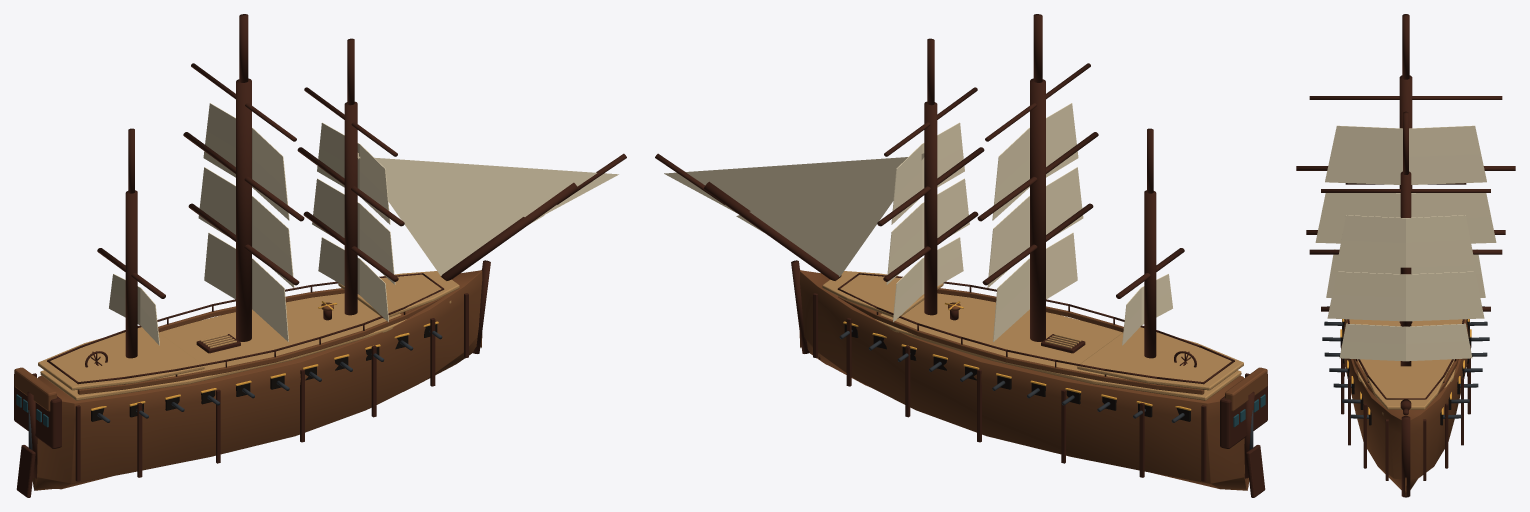
File: AgeOfSailWarship_Frigate.fbx
3 renders of one model, left to right at view 1: azimuth 30°, elevation 25°; view 2: azimuth 150°, elevation 25°; view 3: azimuth 270°, elevation 25°, orthographic. The views are drawn at different scales.
Visible parts, largest first — view 1: Frigate_Hull_Main_Lofted, Frigate_Deck_Upper_Main, Frigate_Jib_Inner, Frigate_Jib_Outer, Frigate_Deck_Quarterdeck, Frigate_Main_Mast, Frigate_Main_SquareSail_1, Frigate_Main_SquareSail_0, Frigate_Main_SquareSail_2, Frigate_Fore_SquareSail_1, Frigate_Fore_Mast, Frigate_Fore_SquareSail_0 (+14 smaller); view 2: Frigate_Hull_Main_Lofted, Frigate_Deck_Upper_Main, Frigate_Jib_Inner, Frigate_Deck_Quarterdeck, Frigate_Jib_Outer, Frigate_Main_Mast, Frigate_Main_SquareSail_1, Frigate_Main_SquareSail_0, Frigate_Main_SquareSail_2, Frigate_Fore_SquareSail_1, Frigate_Fore_Mast, Frigate_Fore_SquareSail_0 (+14 smaller); view 3: Frigate_Main_SquareSail_0, Frigate_Fore_SquareSail_1, Frigate_Fore_SquareSail_0, Frigate_Hull_Main_Lofted, Frigate_Main_SquareSail_1, Frigate_Fore_SquareSail_2, Frigate_Deck_Forecastle, Frigate_Main_SquareSail_2, Frigate_Deck_Upper_Main, Frigate_Stem_Post, Frigate_Fore_Mast, Frigate_Main_Yard_0 (+8 smaller).
Part boxes in pixels (box(x1,y1,x2,y2)): Frigate_Hull_Main_Lofted: box(32, 270, 482, 490); Frigate_Deck_Upper_Main: box(40, 293, 451, 400); Frigate_Jib_Inner: box(357, 153, 544, 275); Frigate_Jib_Outer: box(357, 156, 618, 219); Frigate_Deck_Quarterdeck: box(38, 327, 204, 390); Frigate_Main_Mast: box(236, 78, 251, 341); Frigate_Main_SquareSail_1: box(198, 167, 294, 287); Frigate_Main_SquareSail_0: box(203, 103, 289, 220); Frigate_Main_SquareSail_2: box(204, 232, 288, 341); Frigate_Fore_SquareSail_1: box(312, 178, 395, 284); Frigate_Fore_Mast: box(344, 101, 357, 315); Frigate_Fore_SquareSail_0: box(317, 122, 390, 224); Frigate_Hull_Main_Lofted: box(799, 270, 1249, 490); Frigate_Deck_Upper_Main: box(875, 293, 1241, 400); Frigate_Jib_Inner: box(736, 153, 924, 276); Frigate_Deck_Quarterdeck: box(1077, 327, 1243, 390); Frigate_Jib_Outer: box(664, 157, 907, 212); Frigate_Main_Mast: box(1030, 78, 1045, 341); Frigate_Main_SquareSail_1: box(987, 167, 1083, 287); Frigate_Main_SquareSail_0: box(992, 103, 1078, 220); Frigate_Main_SquareSail_2: box(993, 232, 1077, 341); Frigate_Fore_SquareSail_1: box(886, 178, 969, 284); Frigate_Fore_Mast: box(924, 101, 937, 315); Frigate_Fore_SquareSail_0: box(891, 122, 964, 224); Frigate_Main_SquareSail_0: box(1325, 125, 1486, 184); Frigate_Fore_SquareSail_1: box(1327, 271, 1484, 321); Frigate_Fore_SquareSail_0: box(1337, 215, 1474, 267); Frigate_Hull_Main_Lofted: box(1343, 319, 1468, 495); Frigate_Main_SquareSail_1: box(1315, 193, 1496, 243); Frigate_Fore_SquareSail_2: box(1339, 323, 1472, 361); Frigate_Deck_Forecastle: box(1362, 366, 1449, 409); Frigate_Main_SquareSail_2: box(1326, 249, 1485, 297); Frigate_Deck_Upper_Main: box(1349, 319, 1462, 414); Frigate_Stem_Post: box(1401, 416, 1410, 497); Frigate_Fore_Mast: box(1400, 171, 1411, 366); Frigate_Main_Yard_0: box(1309, 96, 1502, 99).
Bounding box in the file's own units: 2887 × 1950 × 958.
